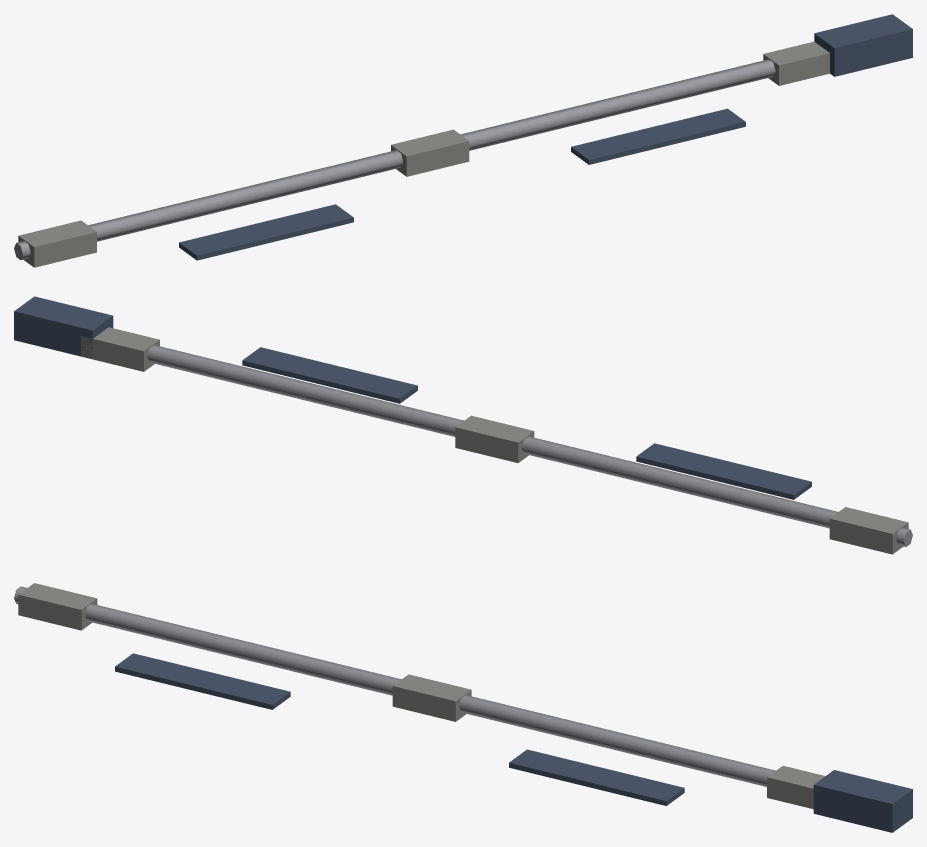
The model's file is rs50s_hinge.obj.
The picture shows the model from 3 angles, top to bottom: view 1: azimuth 30°, elevation 25°; view 2: azimuth 150°, elevation 25°; view 3: azimuth 330°, elevation 25°; orthographic projection.
Visible parts, largest first — view 1: rs50s_hinge; view 2: rs50s_hinge; view 3: rs50s_hinge.
Part boxes in pixels (box(x1,y1,x2,y2)): rs50s_hinge: box(14, 14, 912, 267); rs50s_hinge: box(14, 296, 912, 554); rs50s_hinge: box(14, 583, 912, 832).
Size of the model in its own units: 4.5 by 0.14 by 0.435.
